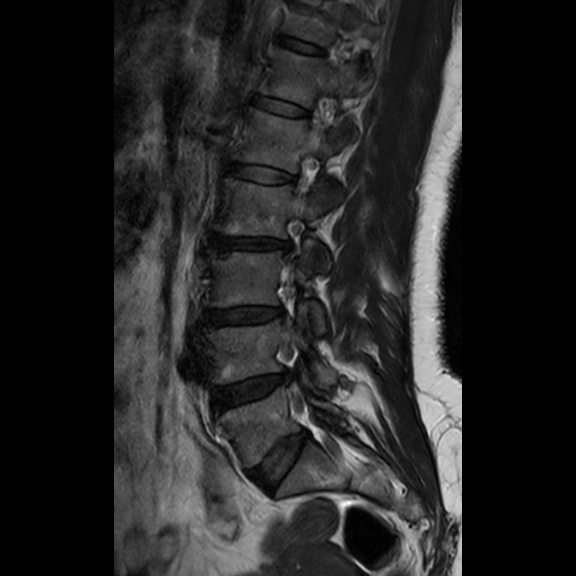RFS0: (281, 141, 329, 205)
